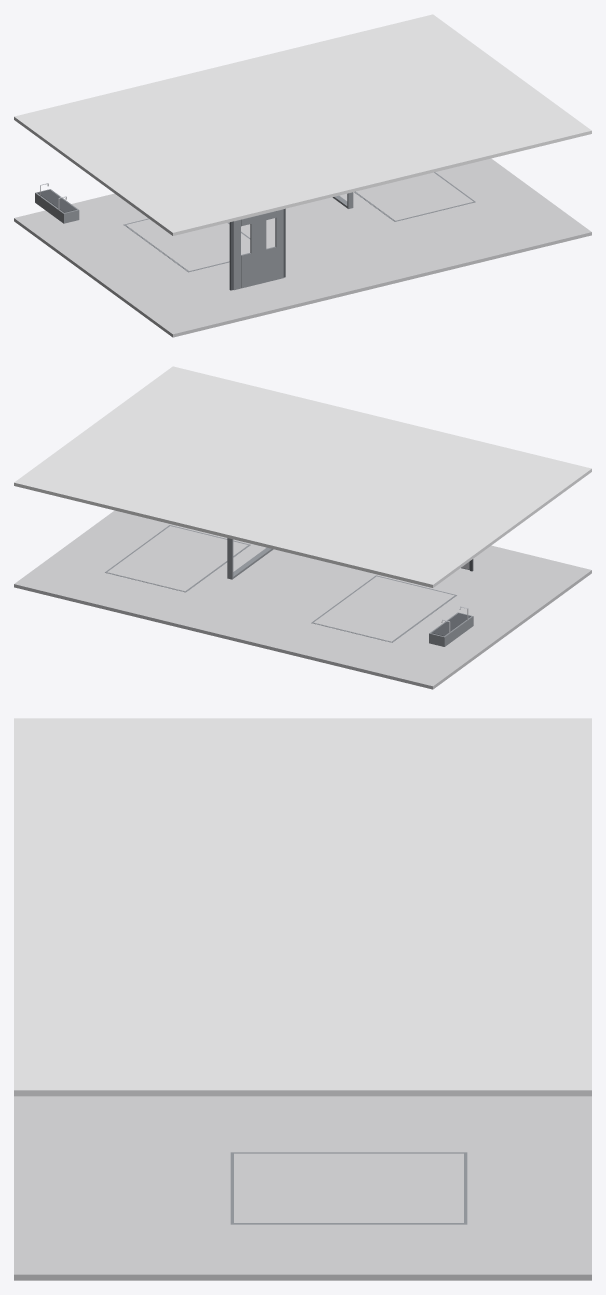
Rendered from TheatreShell.obj.
3 views of the same model, one above another, from view 1: azimuth 30°, elevation 25°; view 2: azimuth 150°, elevation 25°; view 3: azimuth 270°, elevation 25° (orthographic). The views are drawn at different scales.
Parts seen in each view (by area): view 1: TheatreShell; view 2: TheatreShell; view 3: TheatreShell.
Part boxes in pixels (x1,y1,x2,y2): TheatreShell: (14, 14, 591, 337); TheatreShell: (14, 366, 591, 689); TheatreShell: (14, 718, 591, 1280).
Size of the model in its own units: 13.4 by 3.2 by 8.8.
1 material, 1 textured.
